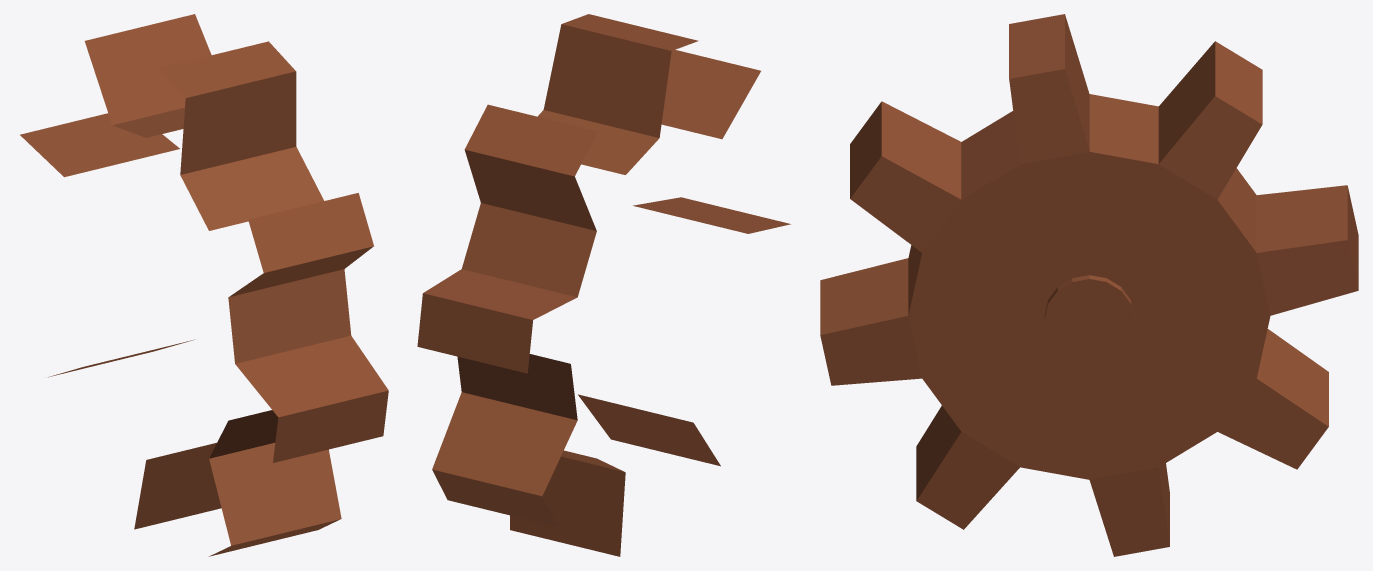
The model's file is Gear1.glb.
3 views of the same model, side by side, from view 1: azimuth 30°, elevation 25°; view 2: azimuth 150°, elevation 25°; view 3: azimuth 270°, elevation 25° (orthographic). The views are drawn at different scales.
Parts seen in each view (by area): view 1: Gear1; view 2: Gear1; view 3: Gear1.
Part boxes in pixels (box(x1,y1,x2,y2)): Gear1: box(20, 14, 388, 556); Gear1: box(417, 14, 790, 556); Gear1: box(820, 14, 1358, 556).
Bounding box in the file's own units: 1 × 3.69 × 3.69.
